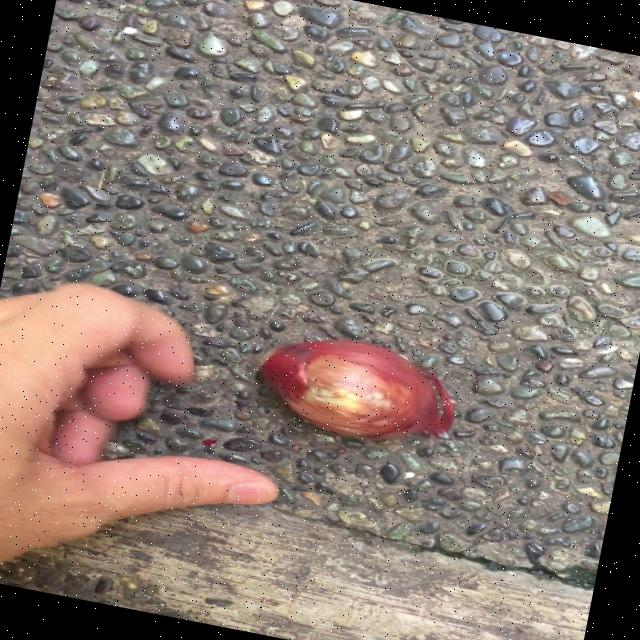Onion: (261, 341, 454, 440)
